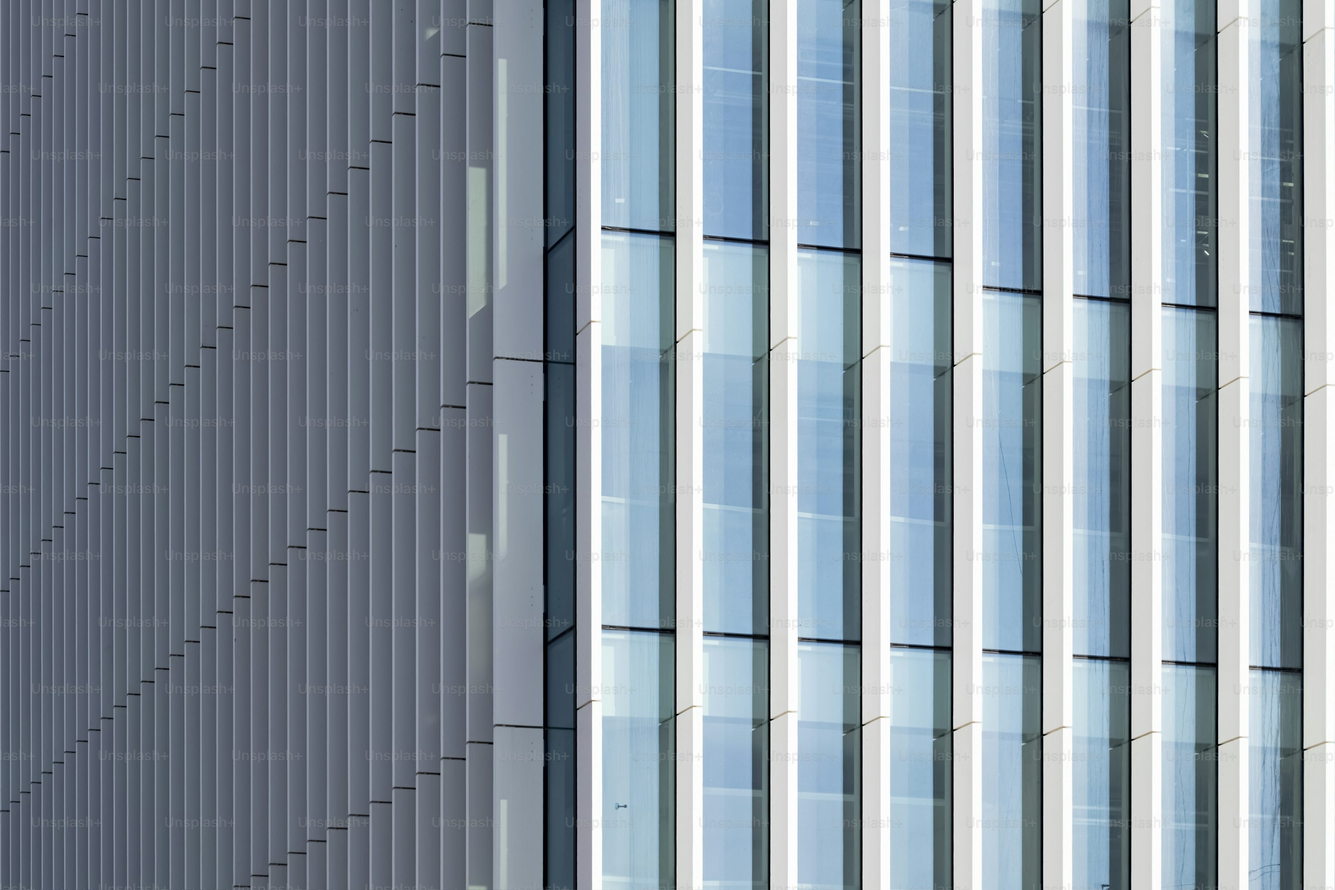glass_panel: (600, 232, 674, 627), (700, 242, 769, 634), (884, 260, 951, 646), (797, 251, 861, 639), (976, 291, 1042, 651), (1073, 299, 1130, 657), (596, 631, 674, 890), (1162, 307, 1218, 663), (1250, 316, 1303, 668), (981, 0, 1042, 290), (599, 0, 675, 231), (1072, 0, 1130, 297), (701, 637, 769, 890), (1161, 0, 1217, 304), (1249, 0, 1303, 314), (888, 0, 952, 257), (701, 0, 768, 239), (797, 0, 861, 247), (797, 643, 860, 890), (889, 648, 951, 890), (983, 654, 1042, 890), (1073, 659, 1129, 890), (1161, 664, 1217, 890), (1249, 670, 1303, 890)
